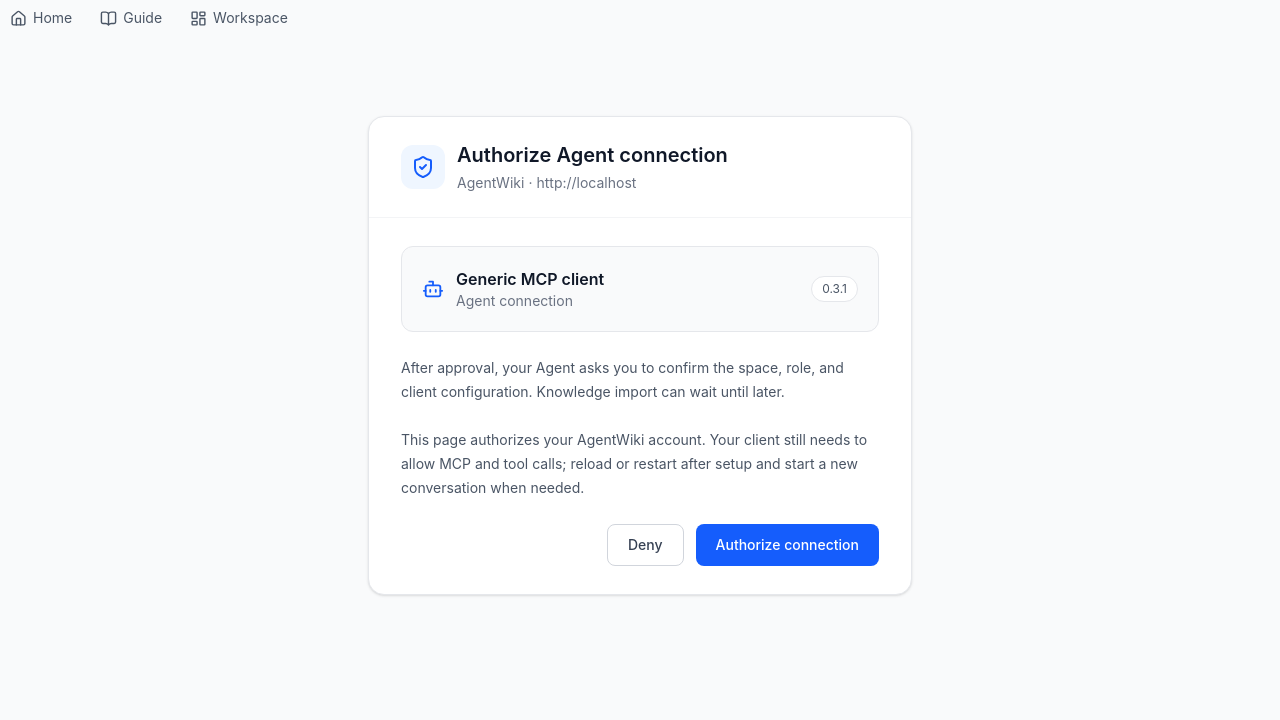
Test case: OnboardDevicePage › authorizes the en generic client and explains host permission separately
Expected: the text "Generic MCP client" is shown, top-left (456, 267), bottom-right (604, 291)
Expected: the text "Your client still needs to allow MCP and tool calls" is shown, top-left (401, 431), bottom-right (867, 496)
Click the button "Authorize connection" at (787,545), box top-left (696, 524), bottom-right (879, 566)
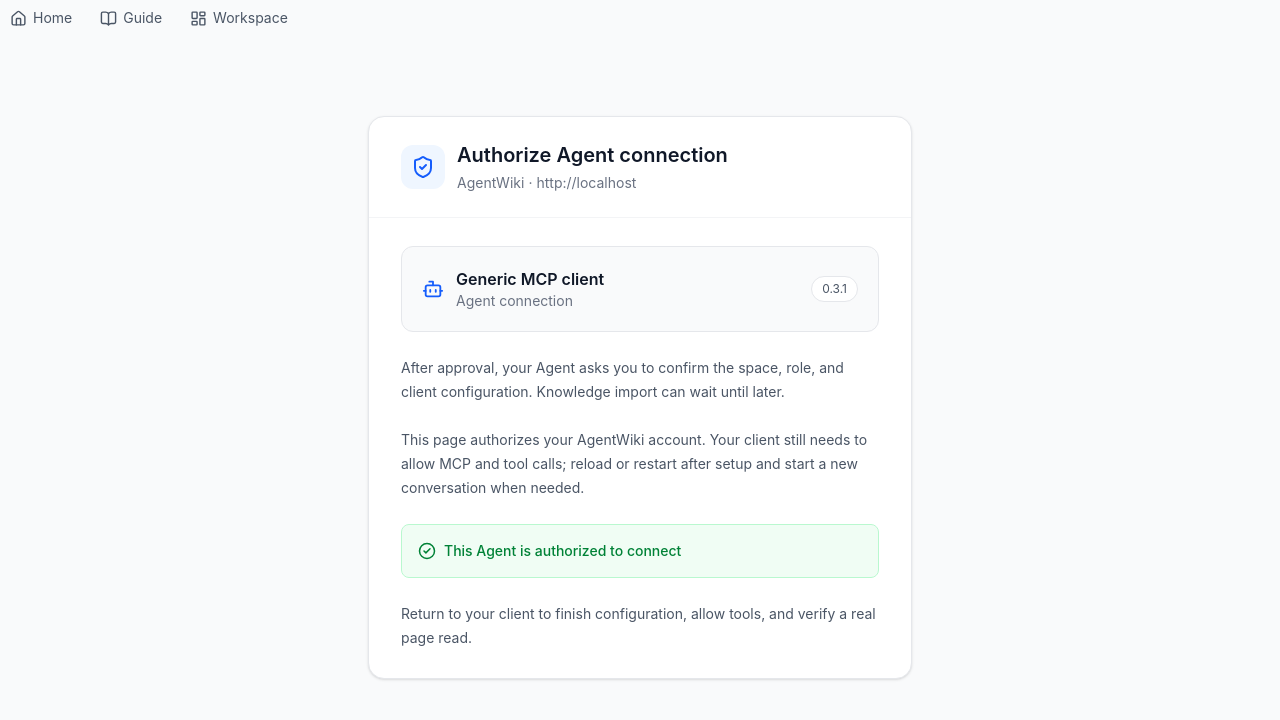
Now the text "This Agent is authorized to connect" is shown, box top-left (401, 524), bottom-right (879, 578)
Now the text "Return to your client to finish configuration" is shown, box top-left (401, 605), bottom-right (876, 646)
